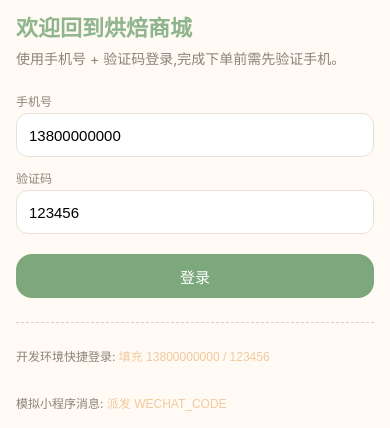
Test: LoginView › keeps the development quick-fill action
The image size is (390, 428).
Clear the field labelled "手机号" at (195, 135), box [16,113,374,157]
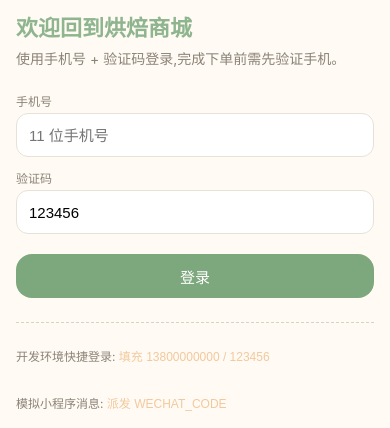
Clear the field labelled "验证码" at (195, 212), box [16,190,374,234]
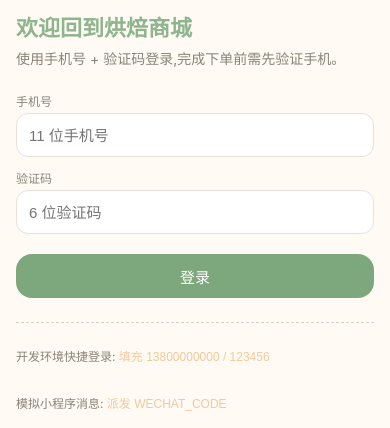
Click the button "填充 13800000000 / 123456" at (194, 356), box [119,347,270,364]
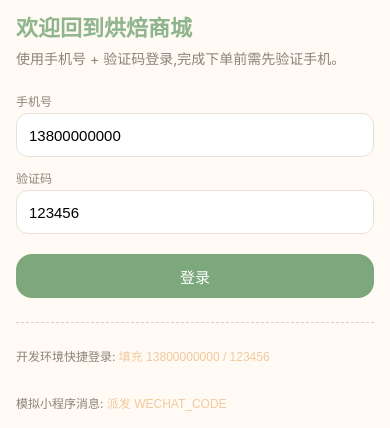
Expected: the field labelled "手机号" holds "13800000000", [16,113,374,157]
Expected: the field labelled "验证码" holds "123456", [16,190,374,234]
